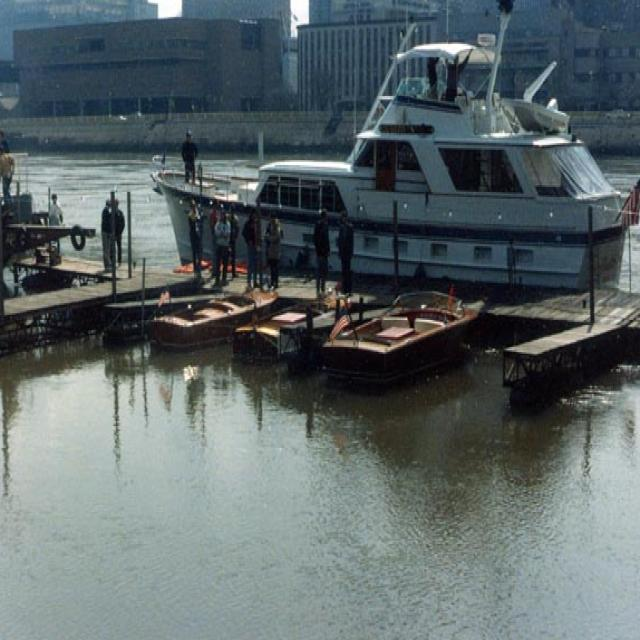houseboat: (158, 34, 626, 296)
